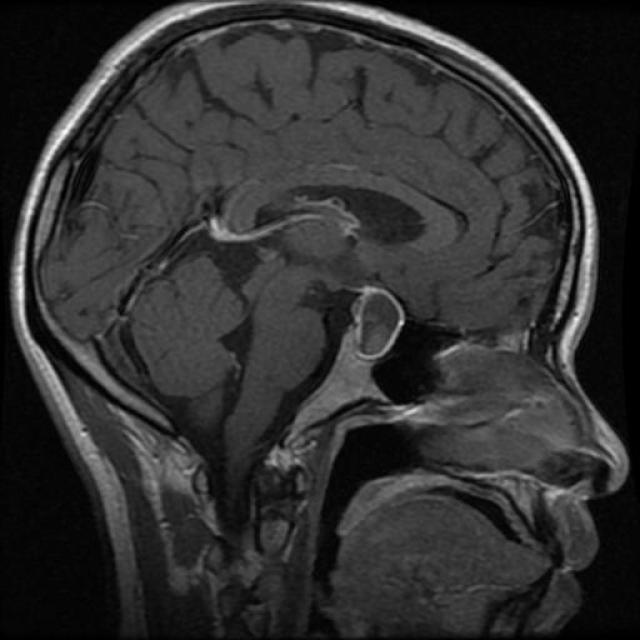no_tumor: (351, 285, 404, 360)
